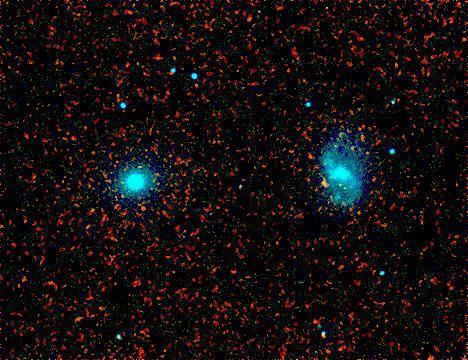star: (308, 170, 338, 200)
